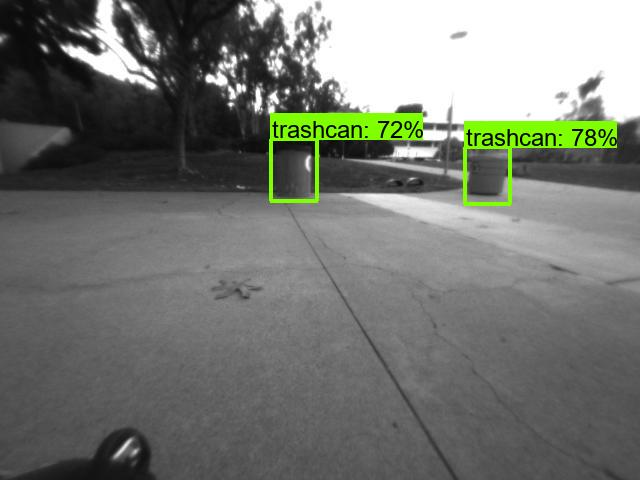trashcan: (276, 141, 314, 201), (471, 151, 504, 196)
